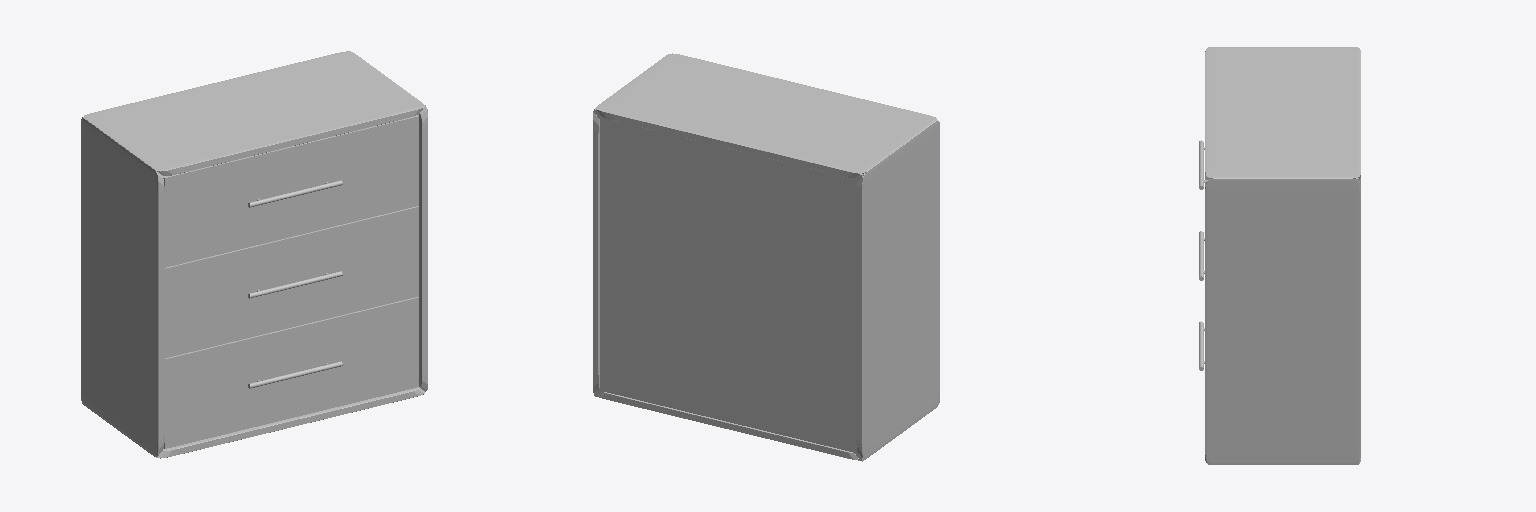
Rendered from Элис.obj.
The picture shows the model from 3 angles: view 1: azimuth 30°, elevation 25°; view 2: azimuth 150°, elevation 25°; view 3: azimuth 270°, elevation 25°; orthographic projection.
Visible parts, largest first — view 1: Cube.004_Cube.005, Cube.007_Cube.008, Cube.006_Cube.007, Cube.005_Cube.006, Cylinder.001_Cylinder.003; view 2: Cube.002_Cube.003, Cube.004_Cube.005; view 3: Cube.004_Cube.005, Cylinder.001_Cylinder.003.
Boxes of the visible parts, box(x1,y1,x2,y2) form: Cube.004_Cube.005: box(81, 51, 427, 458); Cube.007_Cube.008: box(164, 297, 418, 448); Cube.006_Cube.007: box(165, 206, 418, 357); Cube.005_Cube.006: box(160, 115, 418, 267); Cylinder.001_Cylinder.003: box(248, 180, 342, 388); Cube.002_Cube.003: box(594, 109, 864, 461); Cube.004_Cube.005: box(593, 53, 939, 460); Cube.004_Cube.005: box(1205, 47, 1360, 464); Cylinder.001_Cylinder.003: box(1199, 140, 1207, 370).
Bounding box in the file's own units: 1.6 × 1.63 × 0.8323.